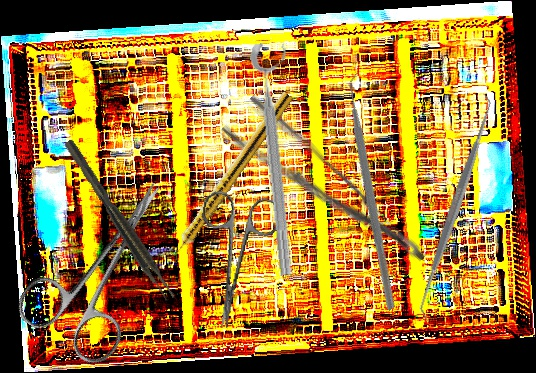Chopper: (256, 66, 497, 312)
Dressing Forceps: (218, 91, 430, 293)
Fixation Ring: (248, 40, 313, 277)
Handpiece: (162, 88, 295, 266)
Iris Scissors: (10, 156, 205, 373), (183, 188, 283, 335)
Spatula Surgical: (405, 93, 506, 322)
Tissue Forceps: (63, 135, 178, 305)
